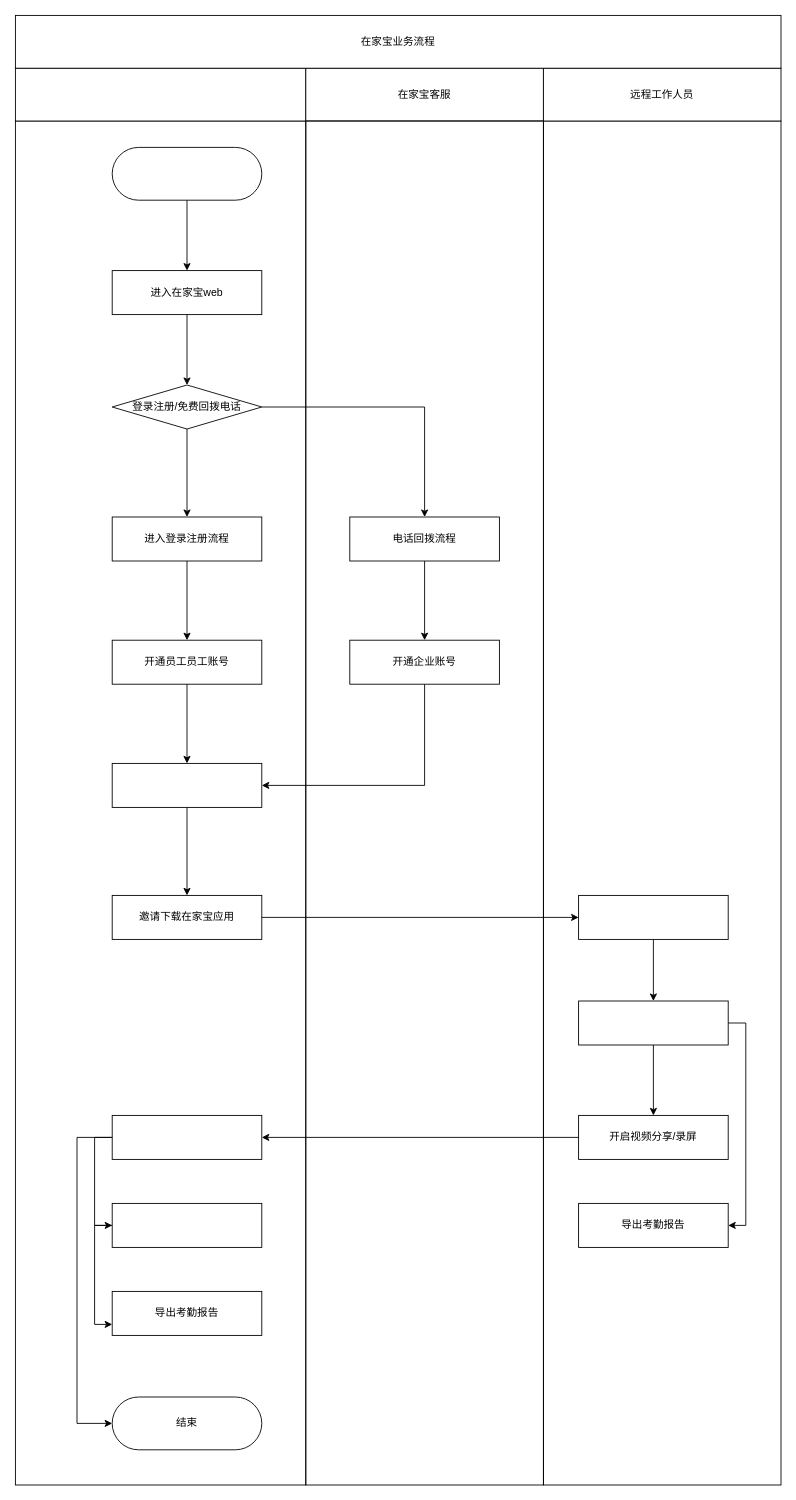
The diagram is 796 pixels wide and 1500 high, and some of its shapes have lost their labels. The centre of each missing label's shape, as x and y in pixels:
"企业客户" goes at [160,94].
"安装在家宝" goes at [653,917].
"导出应用分析报告" goes at [186,1225].
"开始" goes at [186,173].
"查看视频" goes at [186,1137].
"登陆在家宝/打卡" goes at [653,1022].
"设置员工上下班时间" goes at [186,785].
